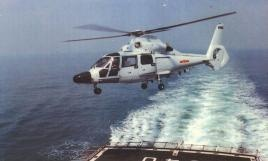airplane: (72, 8, 241, 94)
